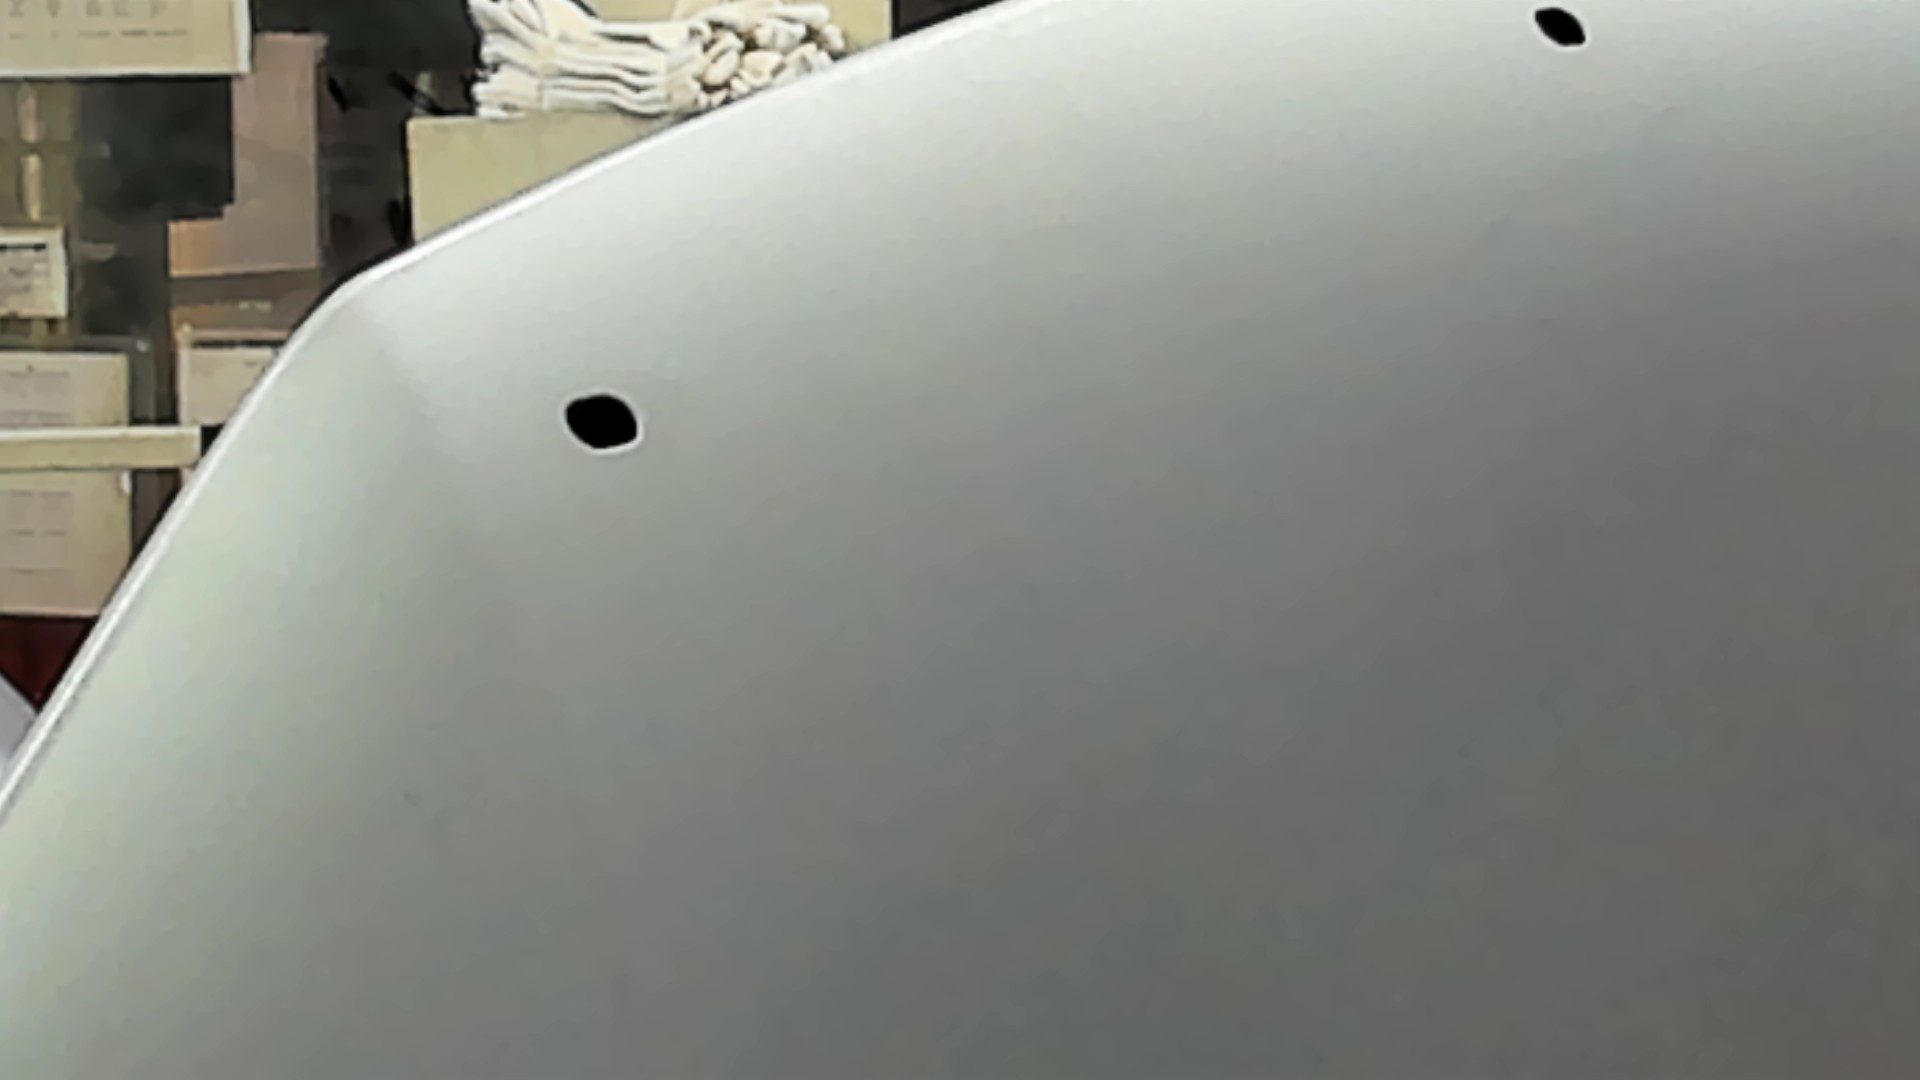amorfo: (555, 386, 647, 455), (1528, 4, 1588, 51)
